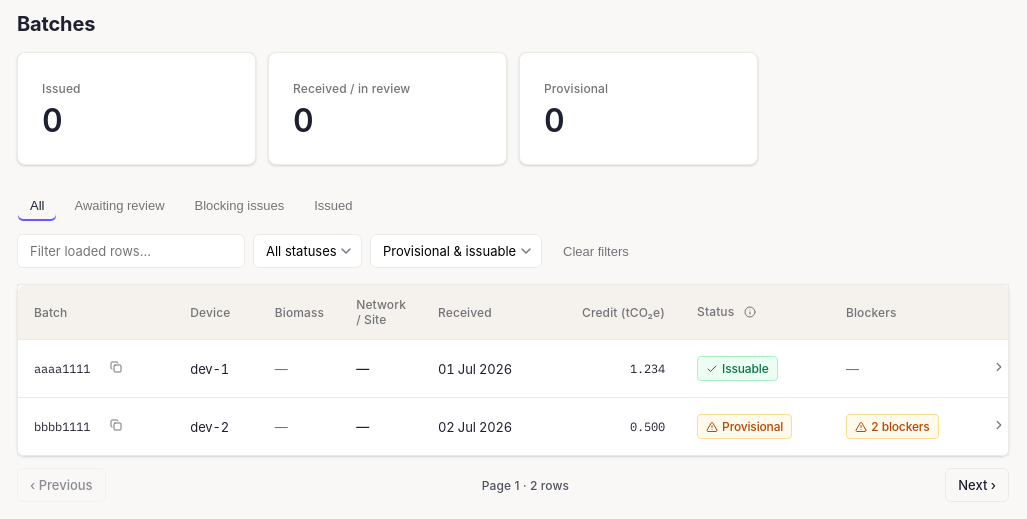
Batches page › pages forward with next_cursor and back via the cursor stack
Expected: the text "dev-1" is shown, [174,340,259,398]
Click the button "Next ›" at (977, 485), box [945,468,1009,502]
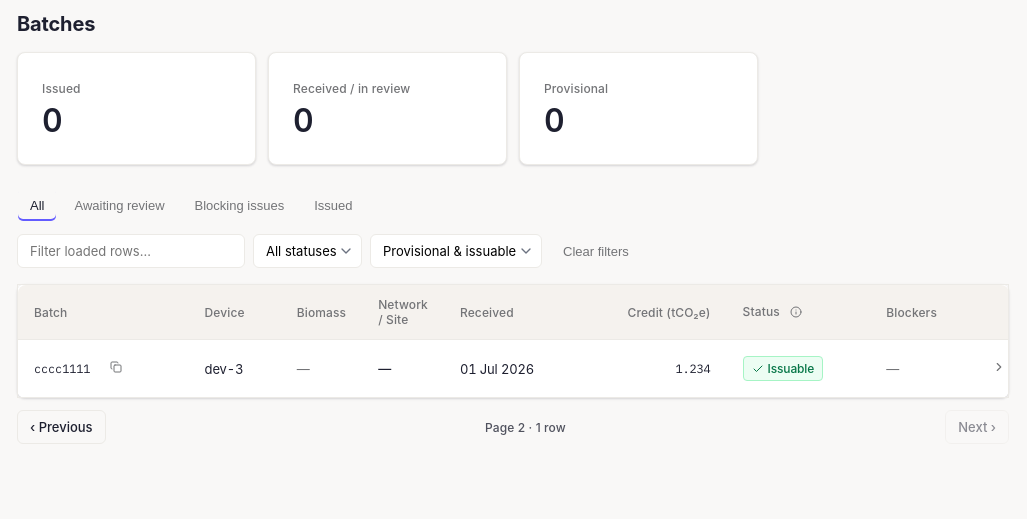
Expected: the text "dev-3" is shown, [189,340,281,398]
Expected: the text "Page 2 · 1 row" is shown, [485,420,566,434]
Expected: the button "Next ›" is disabled, [945,410,1009,444]
Click the button "‹ Previous" at (61, 427), box [17,410,106,444]
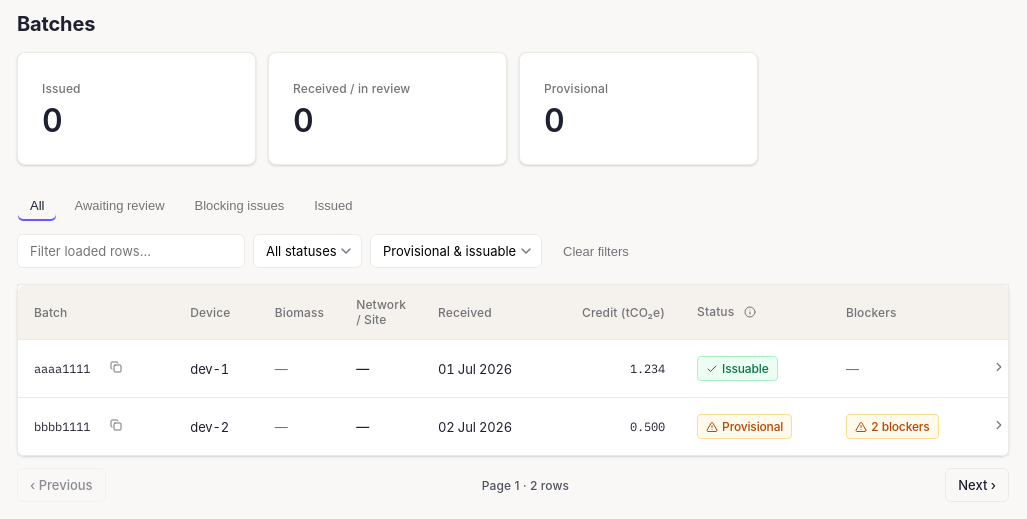
Expected: the text "dev-1" is shown, [174,340,259,398]
Expected: the text "Page 1 · 2 rows" is shown, [482,478,569,492]
Expected: the button "‹ Previous" is disabled, [17,468,106,502]
